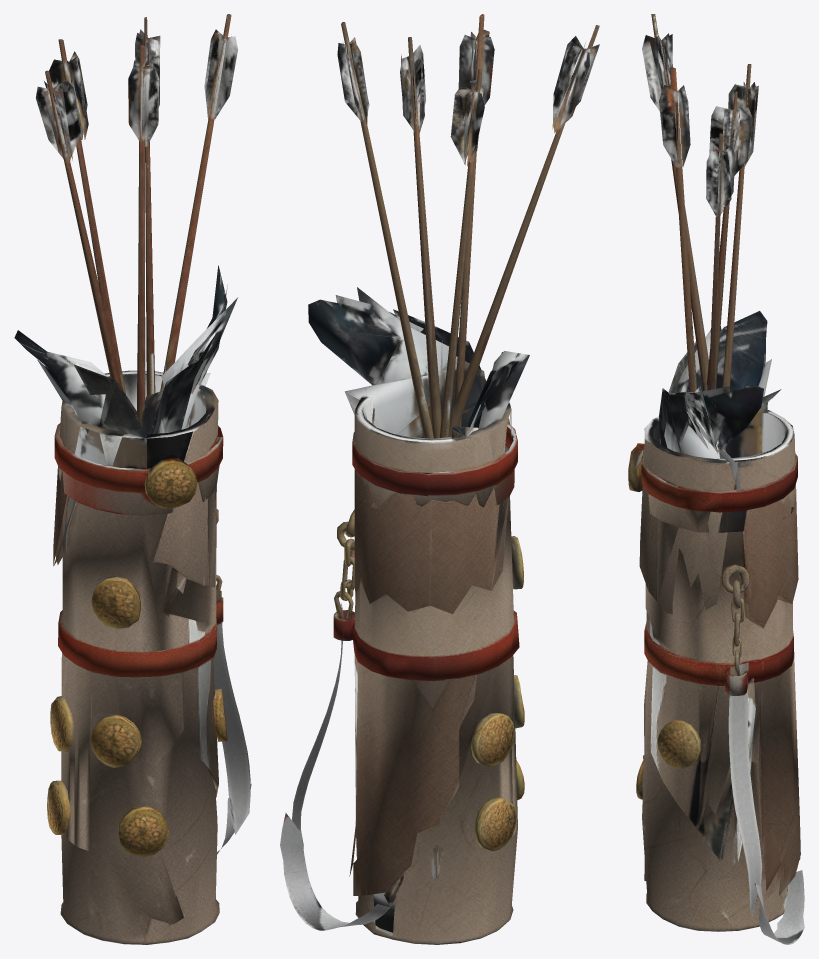
File: magpies-hoard-quiver_refine.glb
3 views of the same model, side by side, from view 1: azimuth 30°, elevation 25°; view 2: azimuth 150°, elevation 25°; view 3: azimuth 270°, elevation 25° (orthographic). The views are drawn at different scales.
Size of the model in its own units: 0.2891 by 0.9517 by 0.1826.
1 material, 1 textured.
